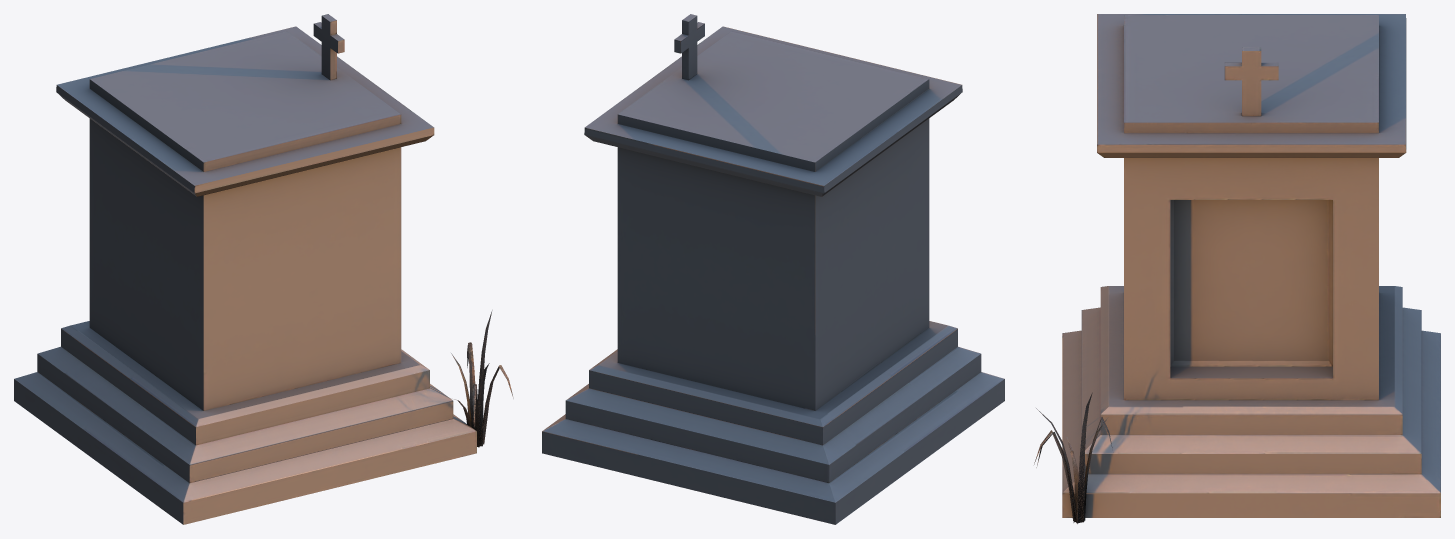
3 renders of one model, left to right at view 1: azimuth 30°, elevation 25°; view 2: azimuth 150°, elevation 25°; view 3: azimuth 270°, elevation 25°, orthographic. The views are drawn at different scales.
Visible parts, largest first — view 1: Tombe4; view 2: Tombe4; view 3: Tombe4.
Part boxes in pixels (x1,y1,x2,y2): Tombe4: (14, 14, 513, 524); Tombe4: (542, 14, 1004, 524); Tombe4: (1034, 14, 1440, 523).
Bounding box in the file's own units: 3.27 × 3.76 × 3.2.
1 material, 1 textured.
